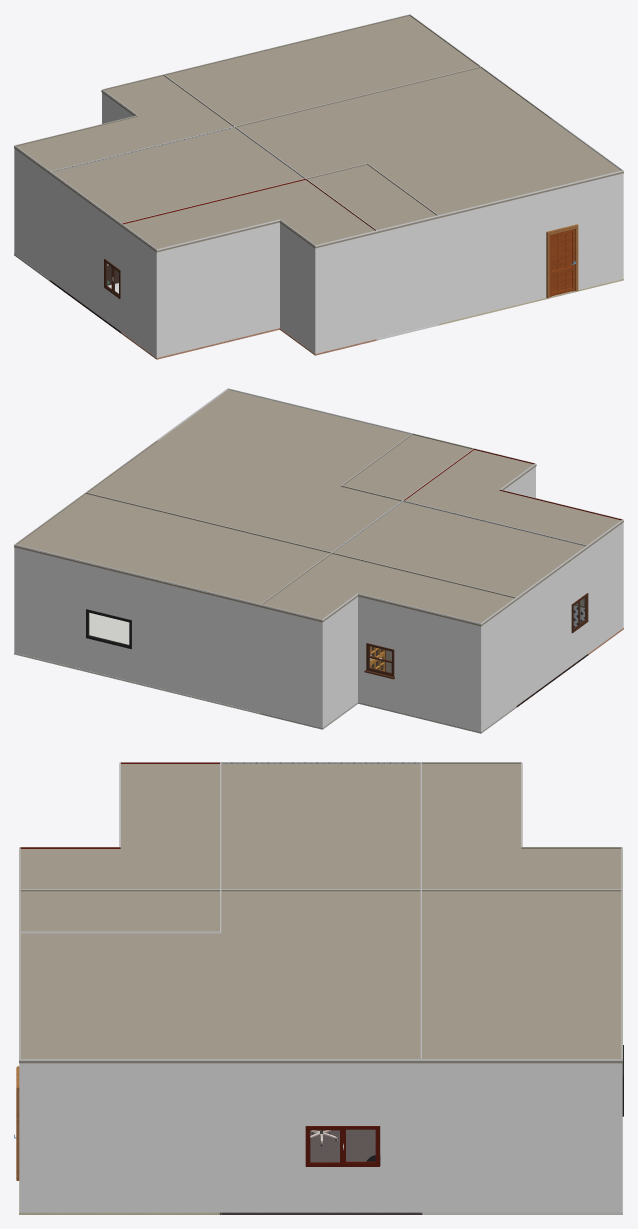
The model's file is ProcTHOR-Train-37.glb.
The picture shows the model from 3 angles, top to bottom: view 1: azimuth 30°, elevation 25°; view 2: azimuth 150°, elevation 25°; view 3: azimuth 270°, elevation 25°; orthographic projection. The views are drawn at different scales.
Parts seen in each view (by area): view 1: WallInside#wall|exterior|0.00|12.34|6.17|12.34, Ceiling#room|2|c, Ceiling#room|3|c, WallInside#wall|exterior|10.28|10.28|14.39|10.28, Ceiling#room|4|c, Ceiling#room|6|c, Ceiling#room|8|c, Ceiling#room|7|c, WallInside#wall|exterior|14.39|4.11|14.39|8.22, WallInside#wall|exterior|8.22|12.34|10.28|12.34, WallInside#wall|exterior|6.17|12.34|8.22|12.34, Ceiling#room|5|c (+8 smaller); view 2: WallInside#wall|exterior|0.00|0.00|8.22|0.00, Ceiling#room|3|c, Ceiling#room|2|c, Ceiling#room|4|c, Ceiling#room|6|c, WallInside#wall|exterior|10.28|2.06|14.39|2.06, Ceiling#room|7|c, Ceiling#room|8|c, WallInside#wall|exterior|14.39|4.11|14.39|8.22, WallInside#wall|exterior|8.22|0.00|10.28|0.00, Ceiling#room|5|c, WallInside#wall|exterior|10.28|0.00|10.28|2.06 (+10 smaller); view 3: Ceiling#room|2|c, Ceiling#room|3|c, WallInside#wall|exterior|0.00|0.00|0.00|4.11, WallInside#wall|exterior|0.00|8.22|0.00|12.34, WallInside#wall|exterior|0.00|4.11|0.00|8.22, Ceiling#room|4|c, Ceiling#room|6|c, Ceiling#room|8|c, Ceiling#room|7|c, Ceiling#room|5|c, Floor#room|2|f, Window_Slider_60x36 (+2 smaller).
Boxes of the visible parts, <box> form: WallInside#wall|exterior|0.00|12.34|6.17|12.34: <box>438,170,623,323</box>; Ceiling#room|2|c: <box>235,68,551,177</box>; Ceiling#room|3|c: <box>164,16,478,127</box>; WallInside#wall|exterior|10.28|10.28|14.39|10.28: <box>157,219,279,357</box>; Ceiling#room|4|c: <box>368,119,623,218</box>; Ceiling#room|6|c: <box>49,128,303,225</box>; Ceiling#room|8|c: <box>120,180,377,252</box>; Ceiling#room|7|c: <box>14,76,232,173</box>; WallInside#wall|exterior|14.39|4.11|14.39|8.22: <box>50,171,121,331</box>; WallInside#wall|exterior|8.22|12.34|10.28|12.34: <box>315,230,377,353</box>; WallInside#wall|exterior|6.17|12.34|8.22|12.34: <box>377,215,438,338</box>; Ceiling#room|5|c: <box>308,165,438,232</box>; WallInside#wall|exterior|0.00|0.00|8.22|0.00: <box>14,544,260,712</box>; Ceiling#room|3|c: <box>14,494,329,607</box>; Ceiling#room|2|c: <box>88,441,400,553</box>; Ceiling#room|4|c: <box>158,390,411,486</box>; Ceiling#room|6|c: <box>334,502,588,599</box>; WallInside#wall|exterior|10.28|2.06|14.39|2.06: <box>358,593,480,731</box>; Ceiling#room|7|c: <box>261,554,516,626</box>; Ceiling#room|8|c: <box>405,450,623,547</box>; WallInside#wall|exterior|14.39|4.11|14.39|8.22: <box>517,545,587,705</box>; WallInside#wall|exterior|8.22|0.00|10.28|0.00: <box>260,604,322,727</box>; Ceiling#room|5|c: <box>344,435,471,501</box>; WallInside#wall|exterior|10.28|0.00|10.28|2.06: <box>322,593,357,727</box>; Ceiling#room|2|c: <box>219,891,422,1063</box>; Ceiling#room|3|c: <box>420,891,622,1063</box>; WallInside#wall|exterior|0.00|0.00|0.00|4.11: <box>420,1059,622,1212</box>; WallInside#wall|exterior|0.00|8.22|0.00|12.34: <box>19,1059,220,1212</box>; WallInside#wall|exterior|0.00|4.11|0.00|8.22: <box>220,1059,421,1212</box>; Ceiling#room|4|c: <box>19,933,221,1063</box>; Ceiling#room|6|c: <box>219,764,422,889</box>; Ceiling#room|8|c: <box>19,763,221,891</box>; Ceiling#room|7|c: <box>420,763,622,890</box>; Ceiling#room|5|c: <box>19,891,219,933</box>; Floor#room|2|f: <box>219,1126,422,1214</box>; Window_Slider_60x36: <box>305,1126,379,1166</box>.
Size of what is drawn, in the model's own units: 14.48 by 3.51 by 12.5.
352 materials, 148 textured.
